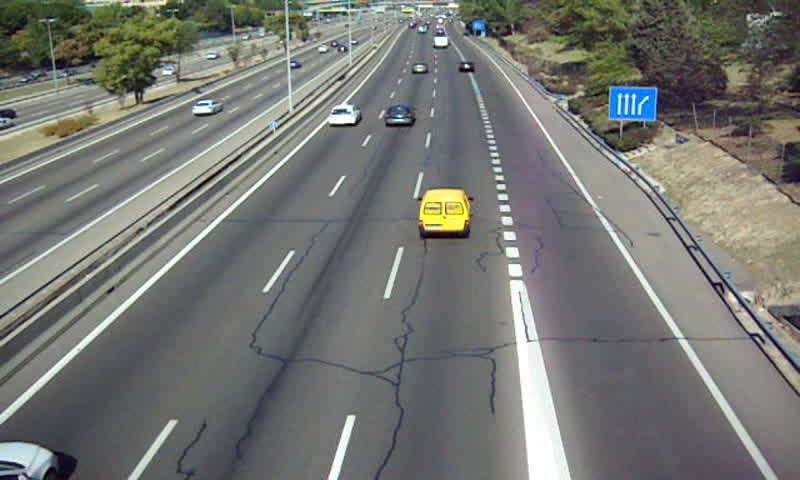car: (383, 104, 416, 129), (328, 104, 361, 125), (410, 62, 429, 76), (458, 60, 476, 74)
van: (418, 189, 471, 237)
